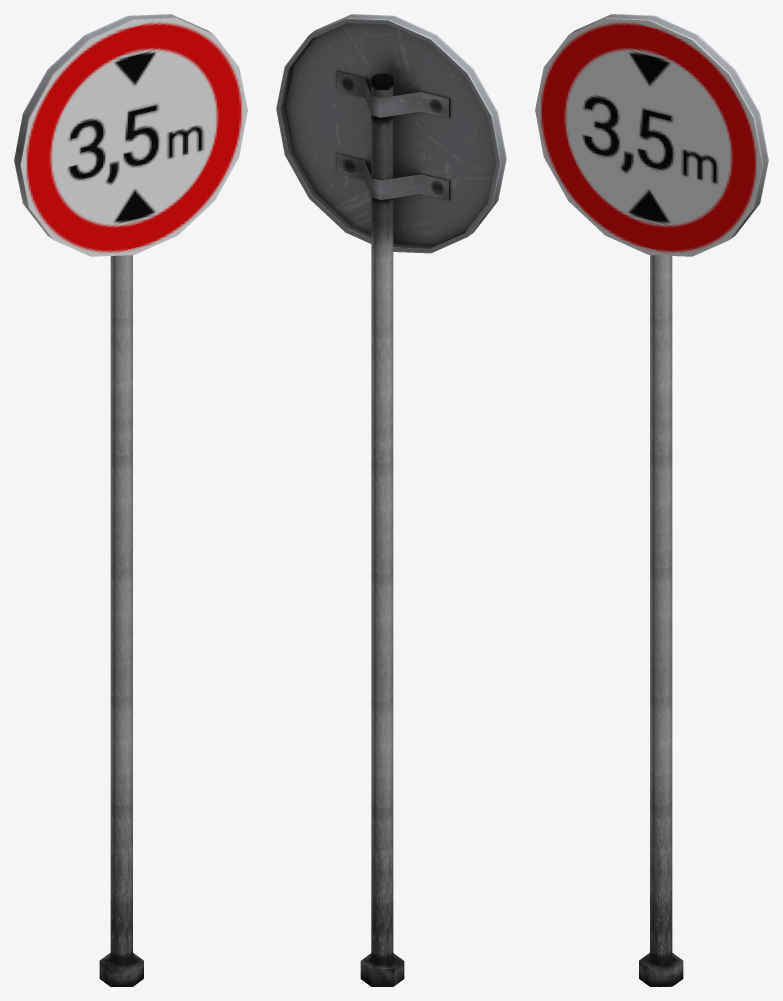
The model's file is ROD0310058.FBX.
The picture shows the model from 3 angles, left to right: view 1: azimuth 30°, elevation 25°; view 2: azimuth 150°, elevation 25°; view 3: azimuth 330°, elevation 25°; orthographic projection.
Visible parts, largest first — view 1: smROD0310058; view 2: smROD0310058; view 3: smROD0310058.
Part boxes in pixels (left/top/right/bottom): smROD0310058: left=14, top=14, right=247, bottom=986; smROD0310058: left=276, top=14, right=506, bottom=986; smROD0310058: left=535, top=14, right=768, bottom=986.
Bounding box in the file's own units: 0.7209 × 2.93 × 0.1296.
1 material, 1 textured.
